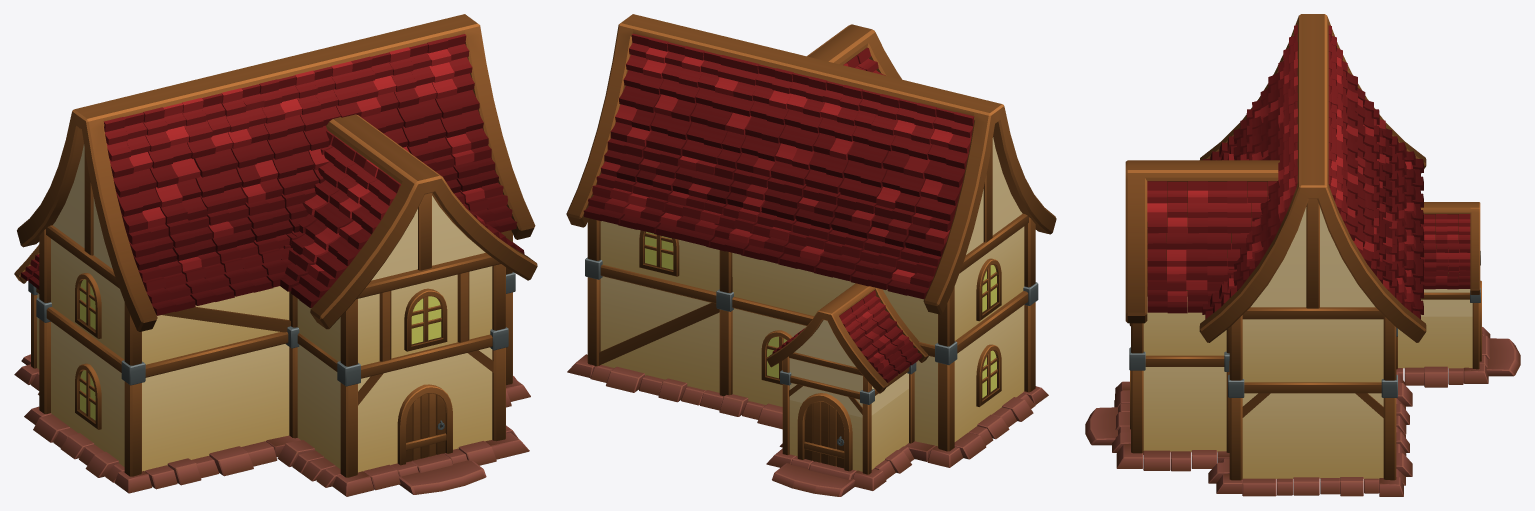
The model's file is Est-Medi-4.fbx.
3 renders of one model, left to right at view 1: azimuth 30°, elevation 25°; view 2: azimuth 150°, elevation 25°; view 3: azimuth 270°, elevation 25°, orthographic. The views are drawn at different scales.
Visible parts, largest first — view 1: Est-Medi-4; view 2: Est-Medi-4; view 3: Est-Medi-4.
Part boxes in pixels (bbox=[...]): Est-Medi-4: bbox=[14, 14, 537, 496]; Est-Medi-4: bbox=[566, 14, 1056, 496]; Est-Medi-4: bbox=[1085, 14, 1520, 496].
Bounding box in the file's own units: 1760 × 1386 × 1779.
